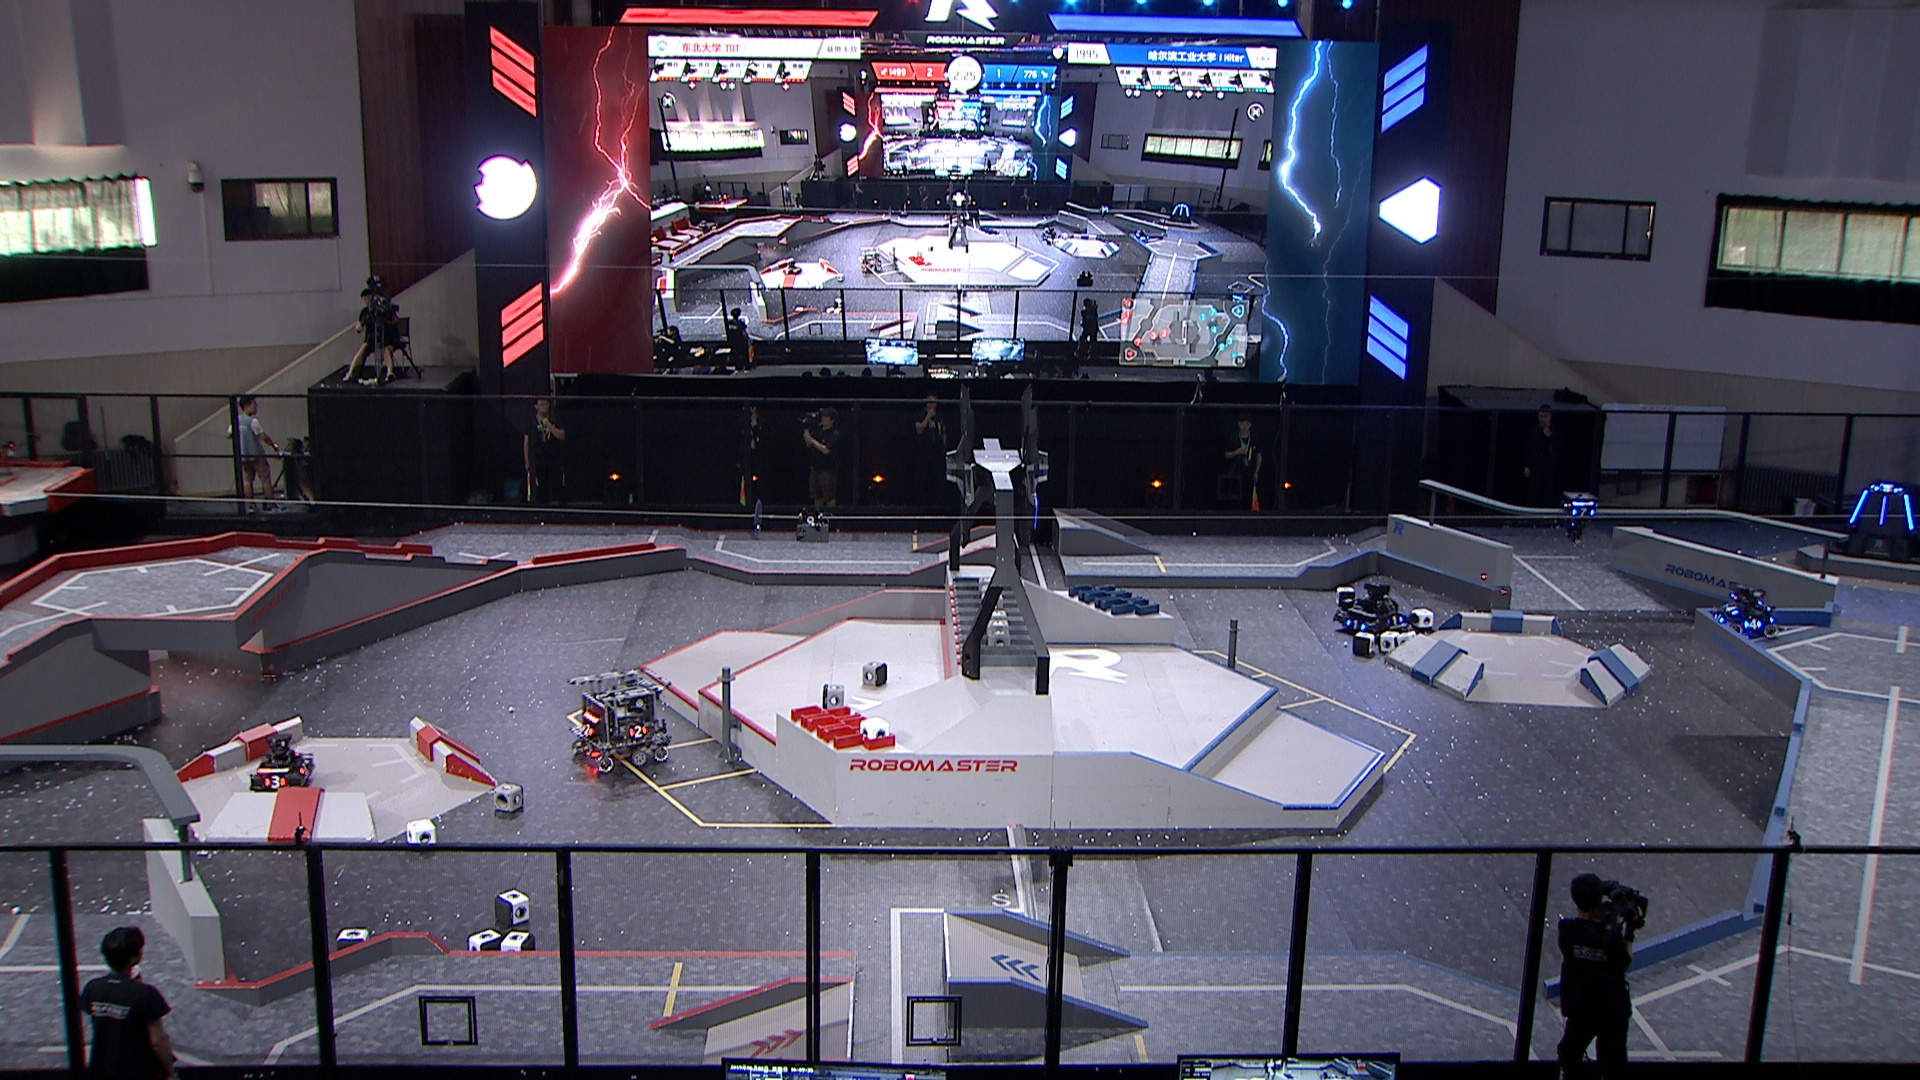armor: (1849, 489, 1870, 526), (1902, 495, 1917, 531), (1567, 505, 1596, 520), (626, 723, 647, 740), (262, 773, 285, 789), (1876, 495, 1888, 524), (1742, 617, 1764, 632), (1873, 484, 1902, 495), (1346, 617, 1366, 632), (1385, 613, 1404, 626), (579, 721, 595, 737), (1724, 604, 1741, 617), (1712, 612, 1726, 626), (297, 764, 310, 775)
base: (1828, 481, 1920, 566)
car: (566, 666, 671, 774), (245, 731, 318, 794), (1335, 578, 1410, 638), (1712, 584, 1776, 638)
ignore: (1166, 200, 1193, 225), (858, 249, 882, 276), (1039, 224, 1059, 243), (1134, 225, 1153, 245), (698, 219, 717, 235), (781, 261, 802, 276)
watcher: (1556, 491, 1600, 543)
